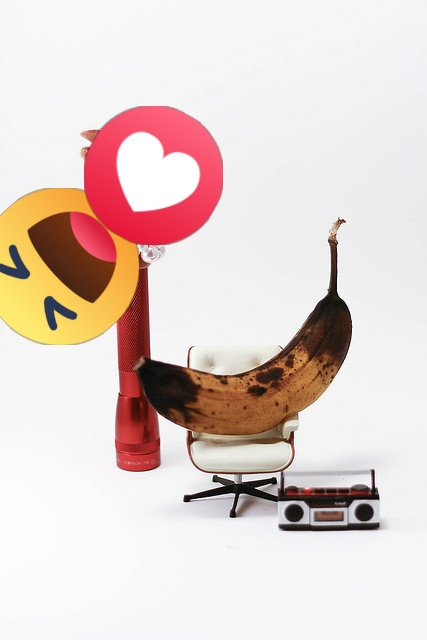haha: (0, 188, 139, 345)
love: (84, 106, 223, 245)
